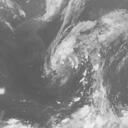cyclone: (40, 42, 80, 84)
